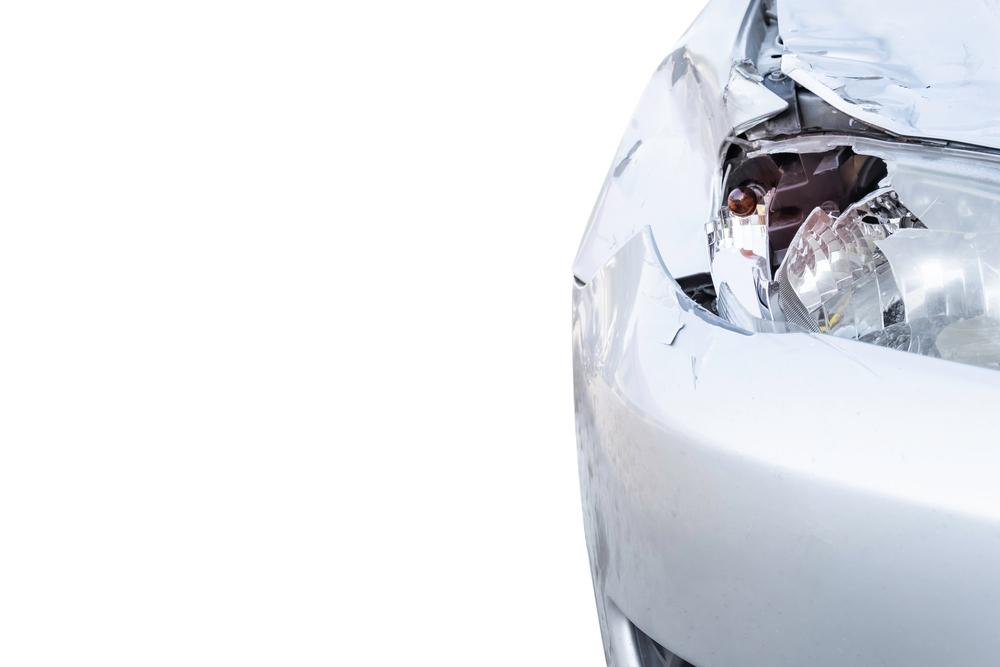dent: (575, 45, 719, 282), (777, 0, 915, 131)
lamp broken: (705, 126, 1000, 372)
